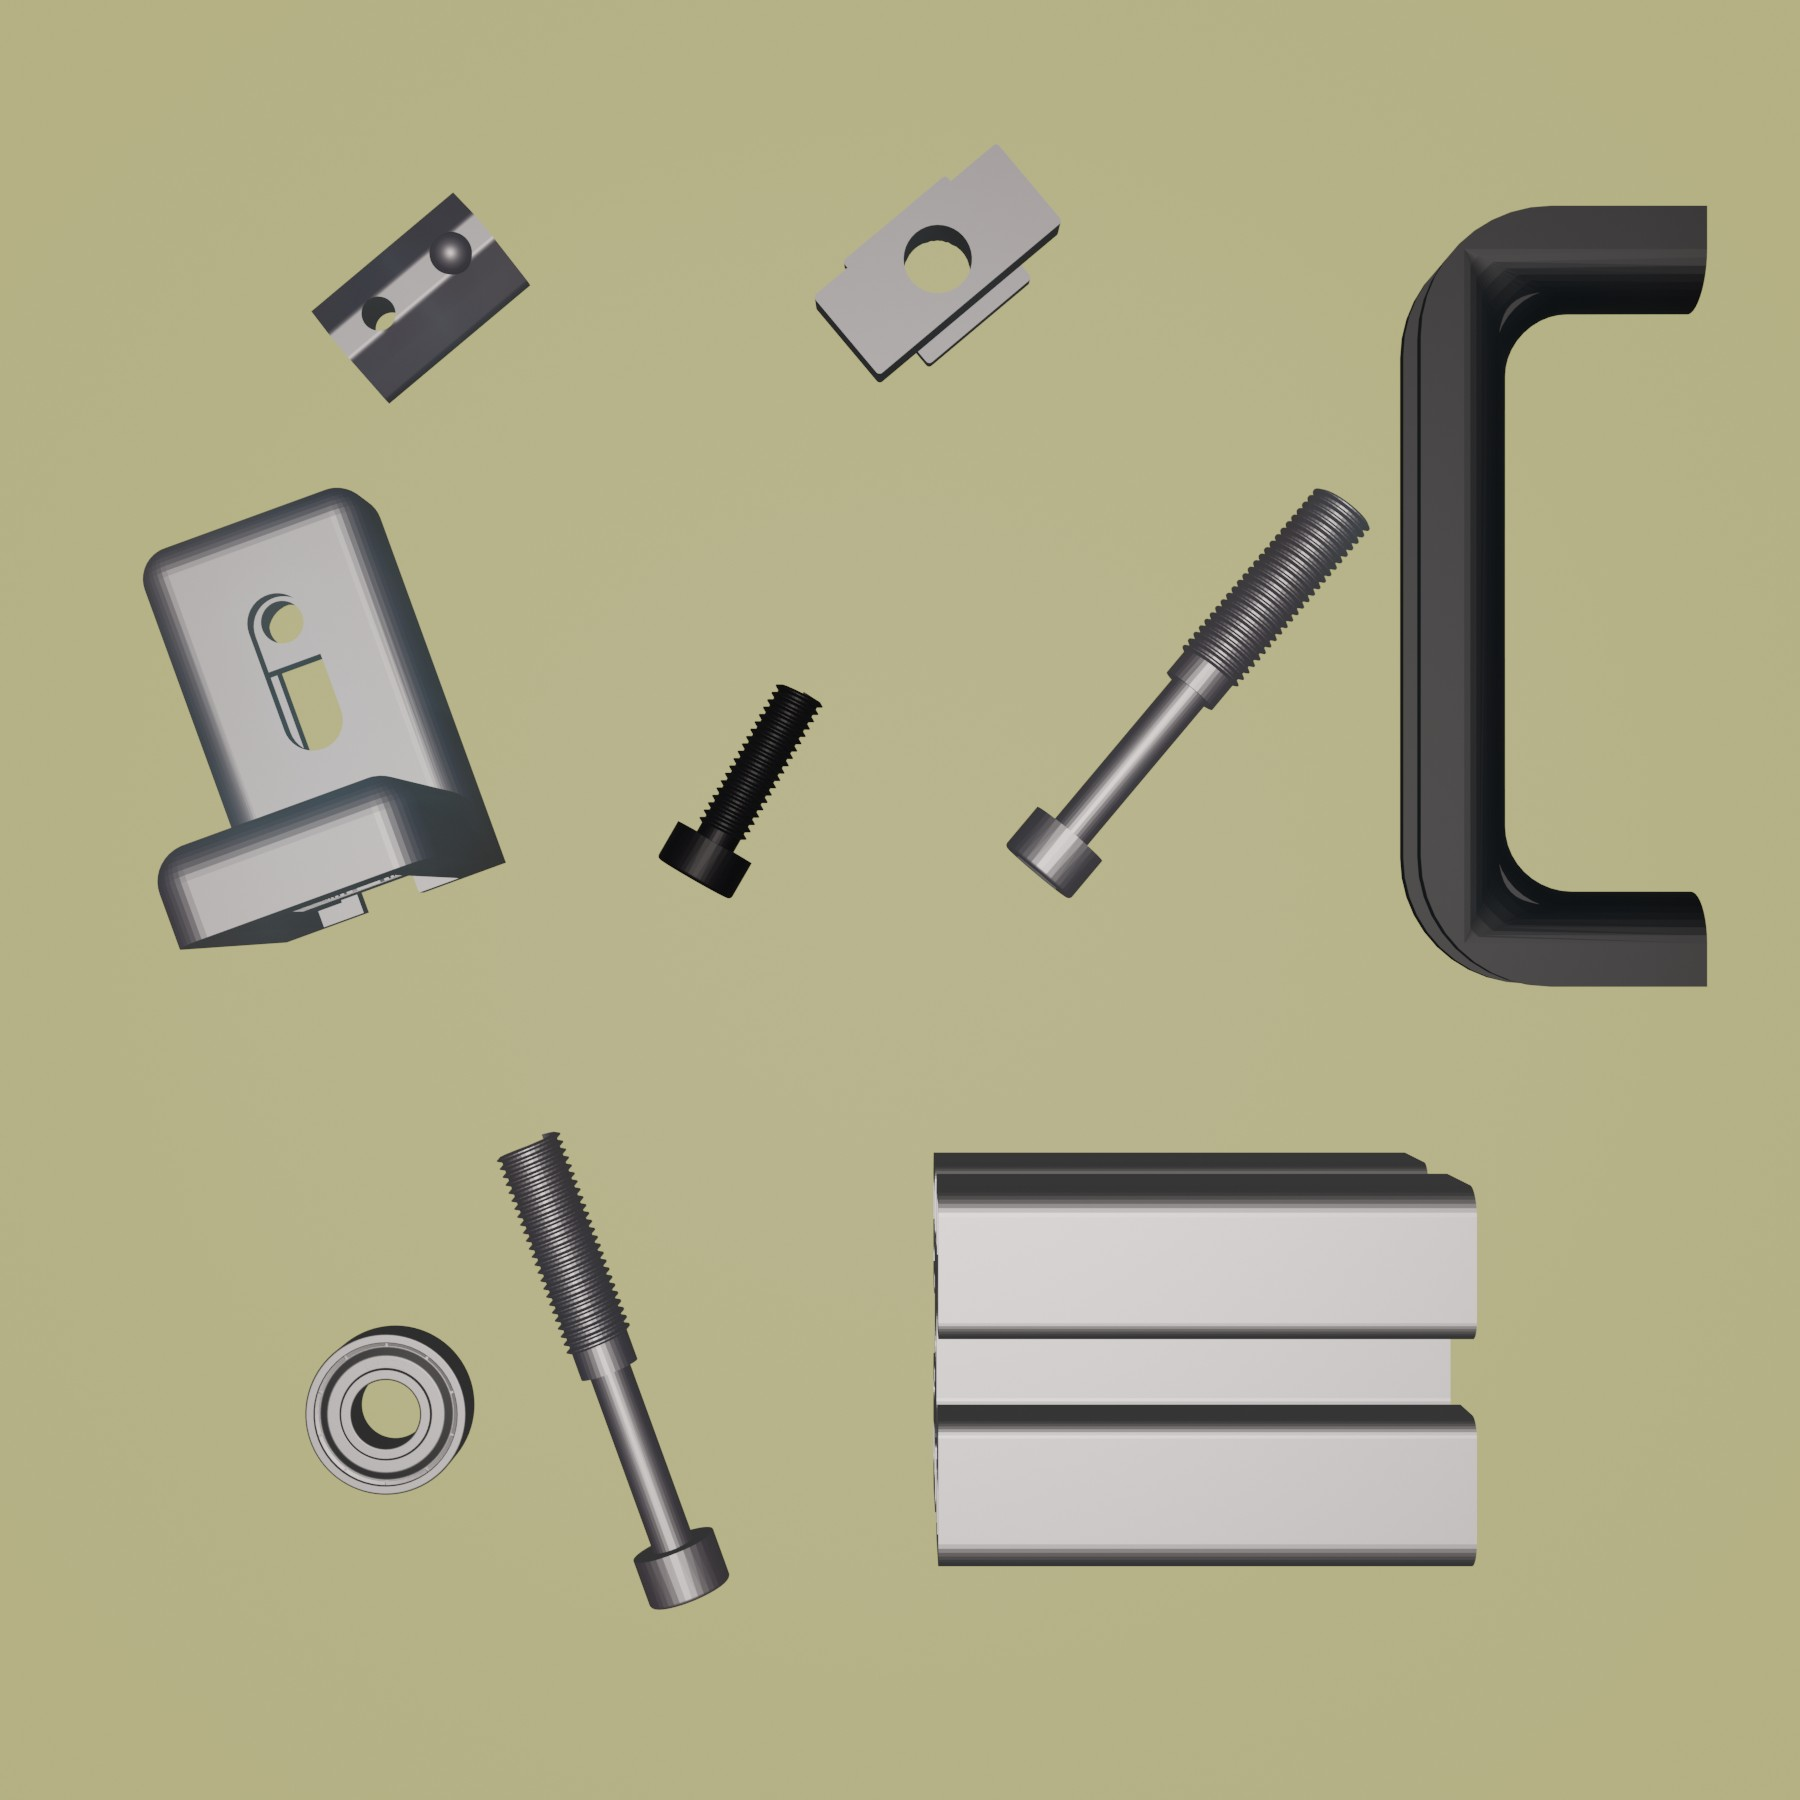Aluminium Extension: (925, 1142, 1479, 1573)
Ball Bearing: (302, 1320, 480, 1497)
Multiwinkel: (142, 485, 509, 953)
Pull Handle: (1391, 201, 1711, 992)
Shoulder Socket Head Cap Screw: (1004, 481, 1371, 898), (496, 1131, 729, 1615)
Socket Head Cap Screw: (653, 681, 823, 902)
T Nut Square: (813, 142, 1065, 386)
T Spring Nut: (312, 186, 531, 407)
